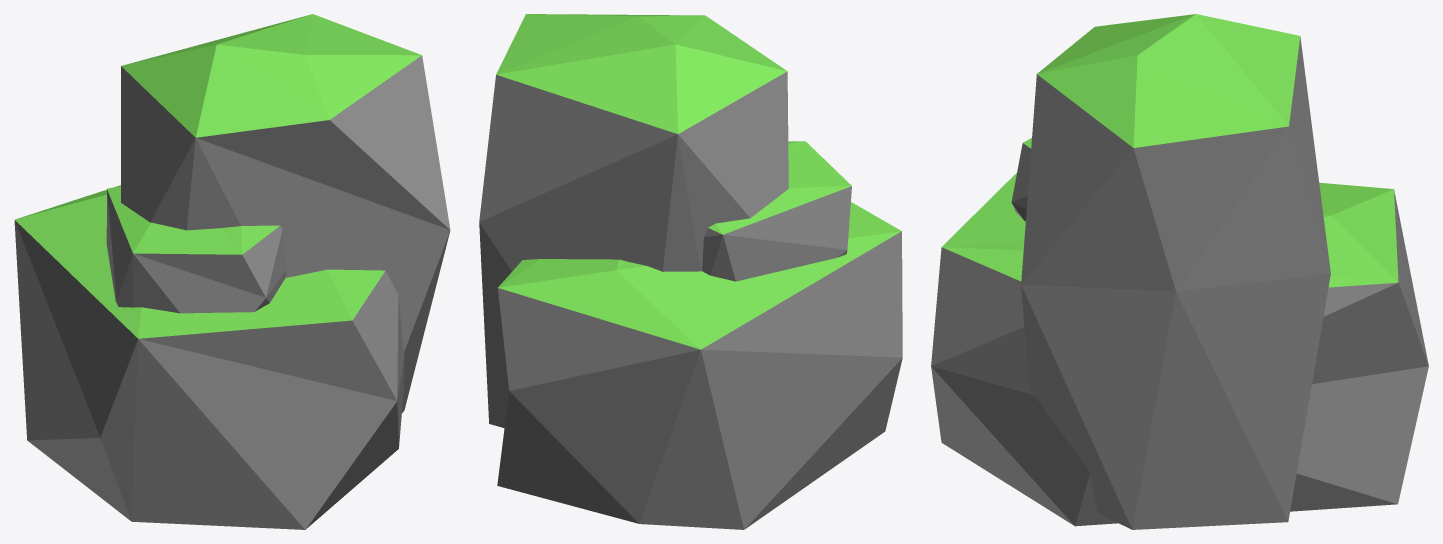
File: Cliff_3.fbx
The picture shows the model from 3 angles, left to right: view 1: azimuth 30°, elevation 25°; view 2: azimuth 150°, elevation 25°; view 3: azimuth 270°, elevation 25°; orthographic projection. The views are drawn at different scales.
Visible parts, largest first — view 1: Cliff_3; view 2: Cliff_3; view 3: Cliff_3.
Boxes of the visible parts, x1=… form: Cliff_3: x1=14, y1=14, x2=450, y2=529; Cliff_3: x1=479, y1=14, x2=902, y2=529; Cliff_3: x1=931, y1=14, x2=1428, y2=529.
Bounding box in the file's own units: 289 × 323 × 319.
